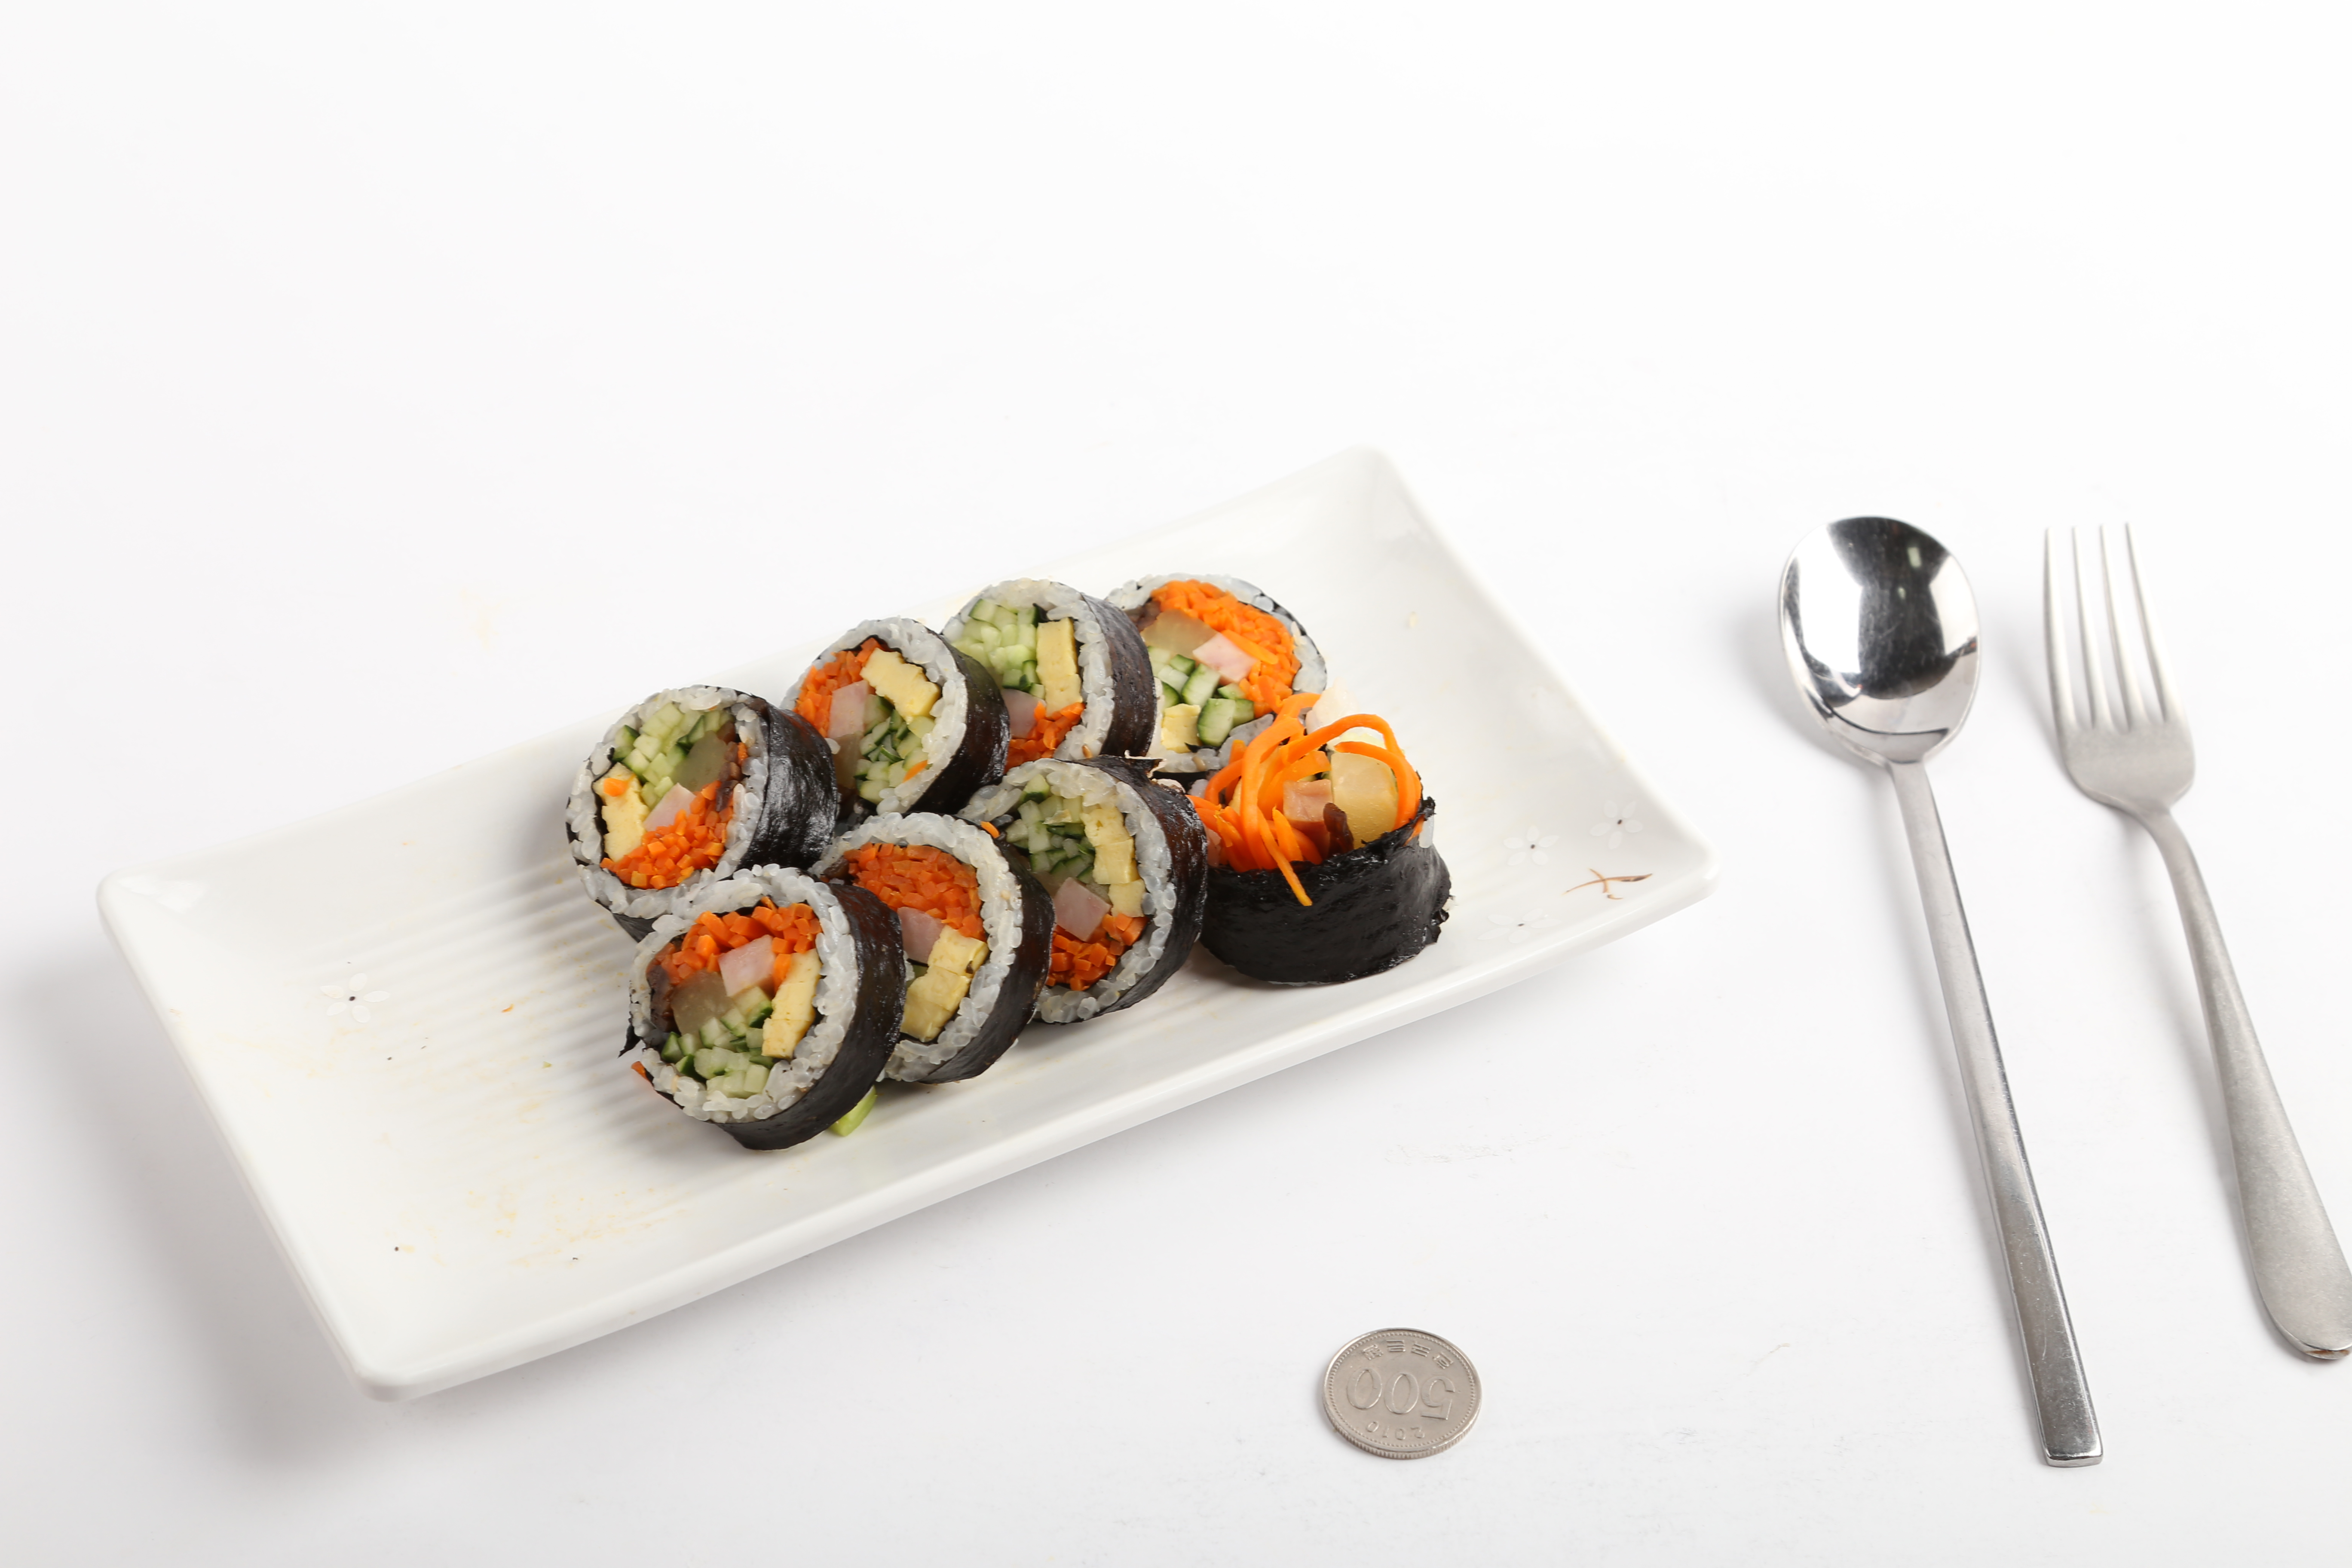dish: (80, 441, 1722, 1407)
ref_coin: (1312, 1321, 1484, 1468)
ref_fork: (2035, 497, 2200, 871)
ref_spoon: (1766, 502, 1986, 833)
김밥: (551, 558, 1452, 1162)
